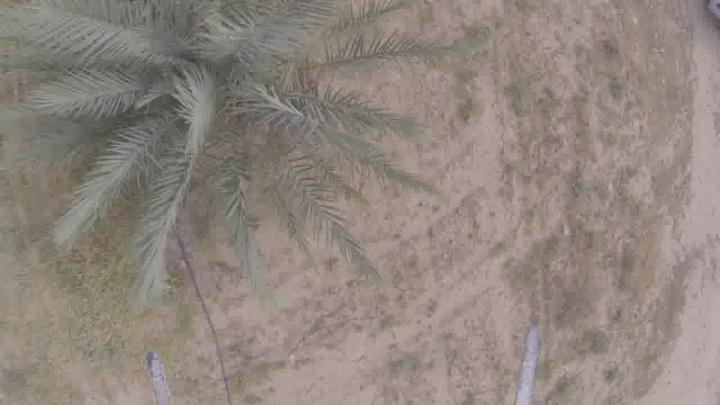Date-Palm-Crown: (105, 0, 307, 200)
